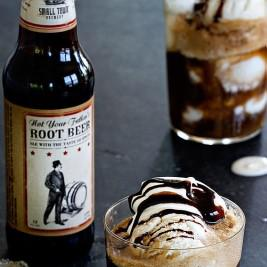beer: (1, 1, 98, 253)
